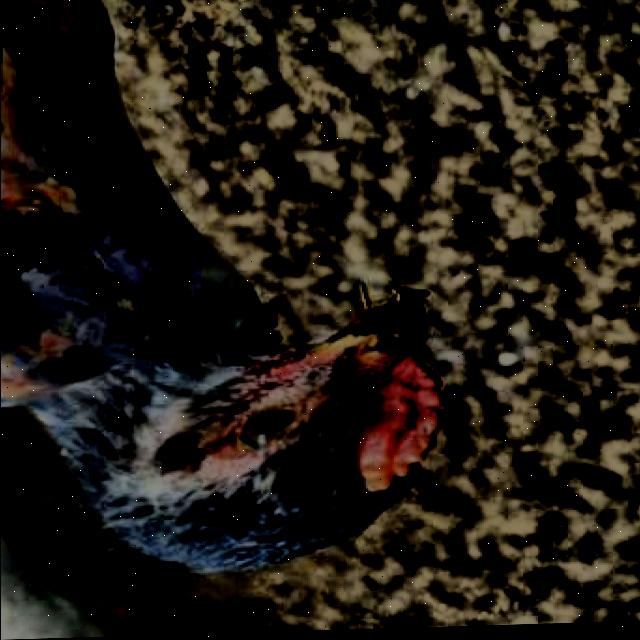Healthy: (219, 395, 303, 470)
